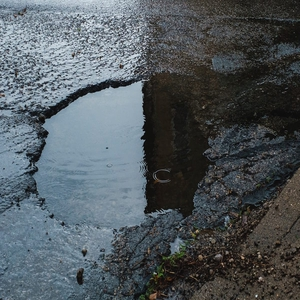pothole: (25, 66, 232, 237)
